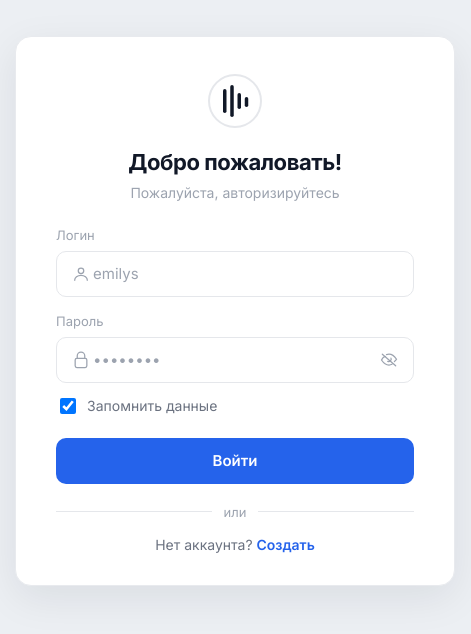
Test: LoginPage › показывает ошибку валидации для пустого логина
The width and height of the screenshot is (471, 634).
Click the button "Войти" at (235, 461), box [56,438,414,484]
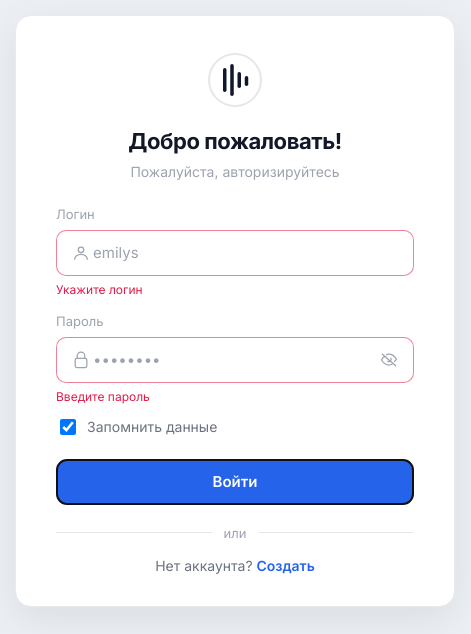
Now the text "Укажите логин" is shown, box [56,282,143,297]
